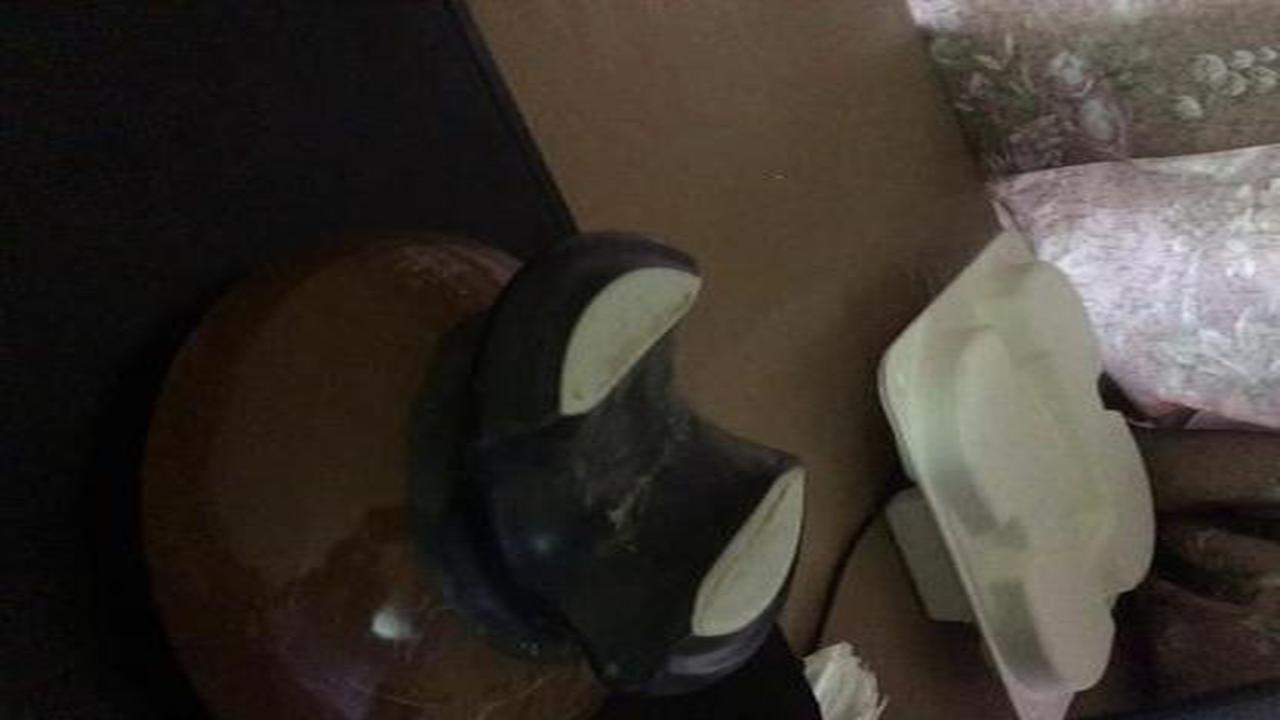insulator_pin: (96, 214, 834, 717)
